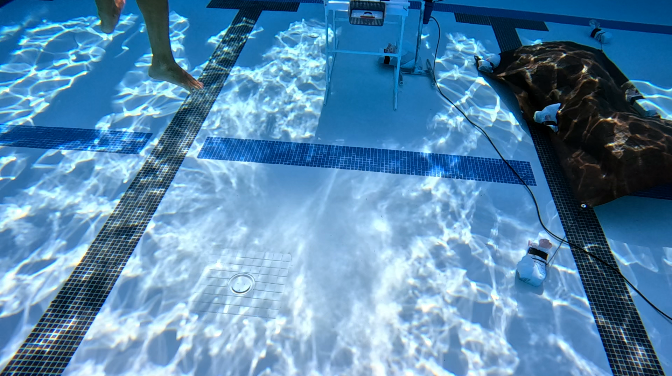sandbag: (477, 27, 671, 209)
